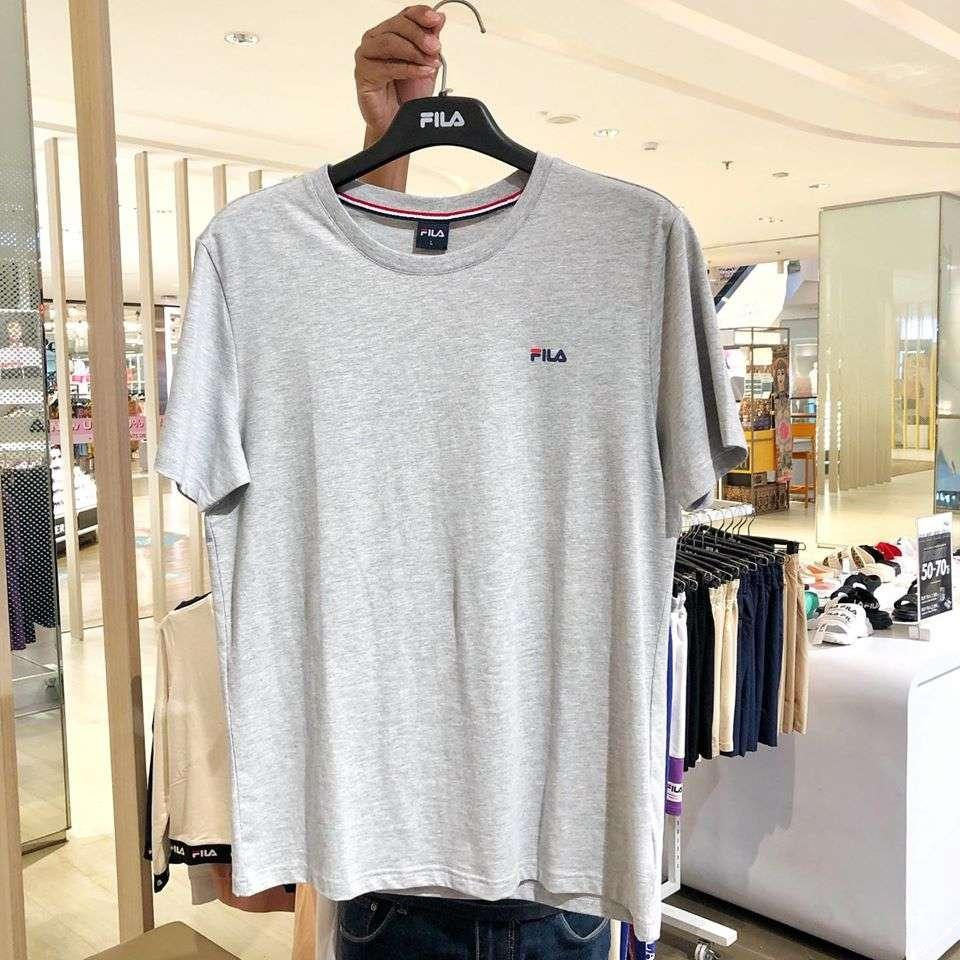Tshirt: (151, 150, 747, 936)
